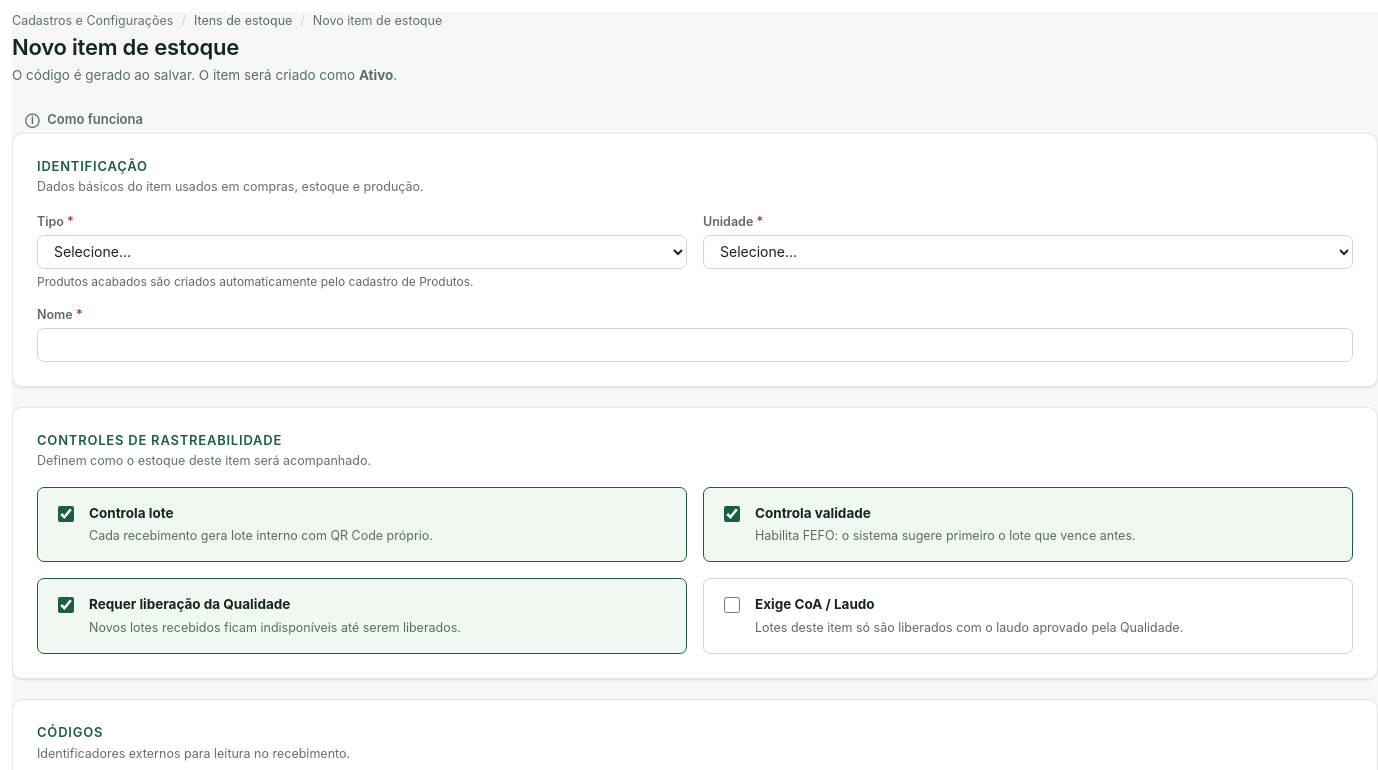
Scenario: Uso e consumo — formulário do Item › mostra a seção própria e nenhum campo dos outros tipos
The width and height of the screenshot is (1378, 770).
Select "Uso e consumo" in the dropdown with id "item-type" at (362, 252), box left=37, top=235, right=687, bottom=269
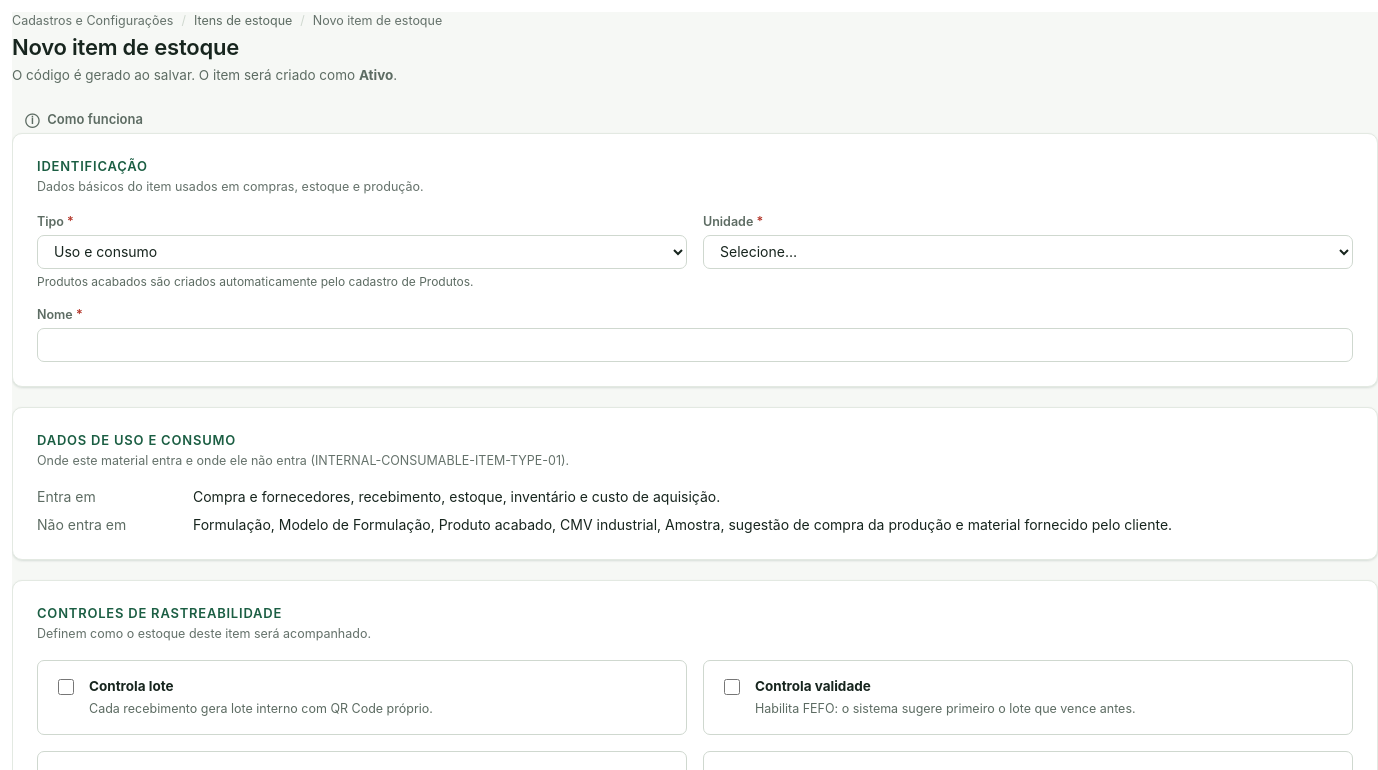
Result: the heading "Dados de uso e consumo" is shown at left=37, top=432, right=236, bottom=448
Result: the text "Não entra em" is shown at left=37, top=516, right=126, bottom=533
